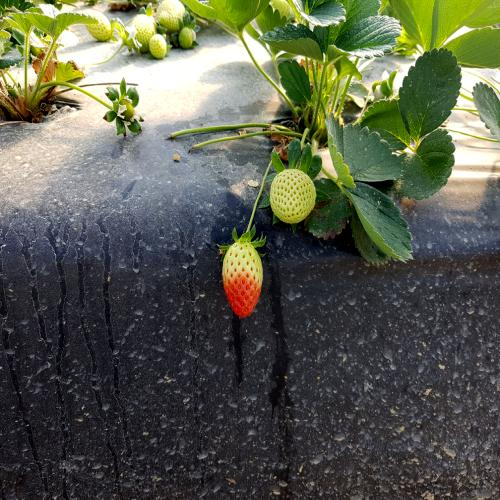partially-ripe: (218, 233, 266, 322)
